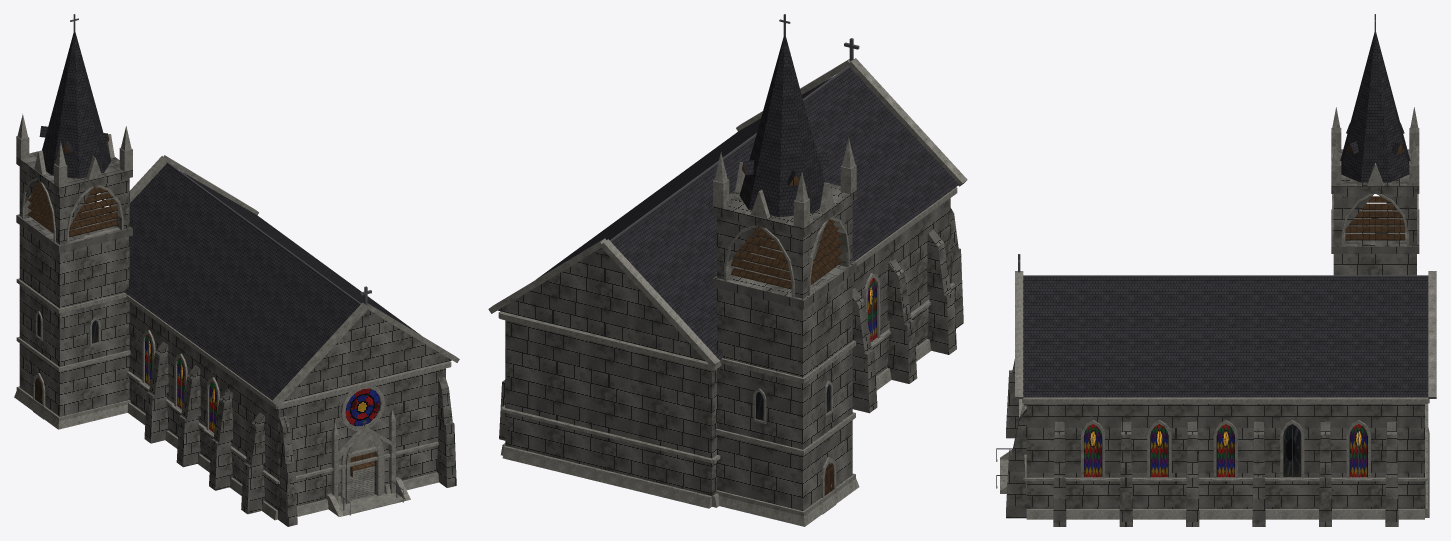
Rendered from church.glb.
3 renders of one model, left to right at view 1: azimuth 30°, elevation 25°; view 2: azimuth 150°, elevation 25°; view 3: azimuth 270°, elevation 25°, orthographic. The views are drawn at different scales.
Parts seen in each view (by area): view 1: detail, shell-col; view 2: detail, shell-col; view 3: detail, shell-col.
Part boxes in pixels (box(x1,y1,x2,y2)): detail: box(14, 14, 459, 520); shell-col: box(16, 150, 456, 526); detail: box(488, 14, 967, 526); shell-col: box(499, 182, 963, 510); detail: box(996, 14, 1436, 519); shell-col: box(1006, 149, 1424, 526).
Bounding box in the file's own units: 18.55 × 27.2 × 26.53.
16 materials, 16 textured.
